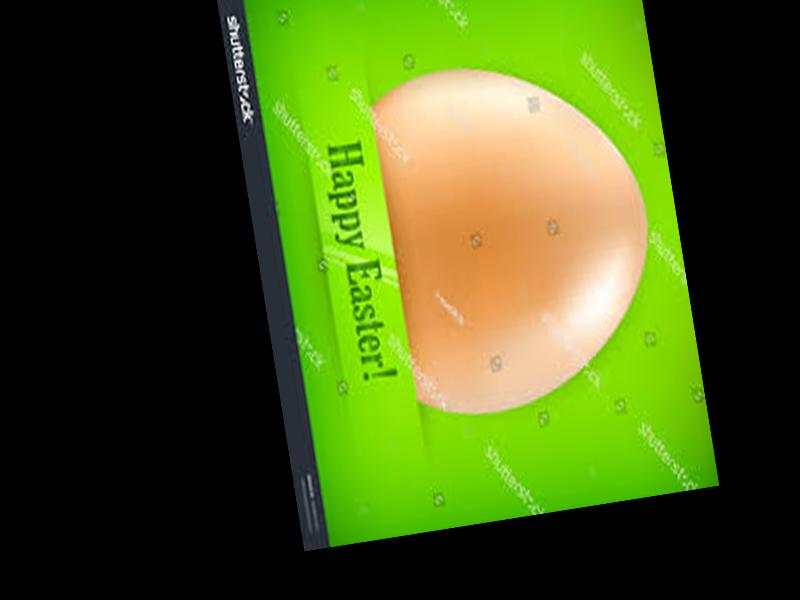Eggs: (367, 44, 673, 423)
